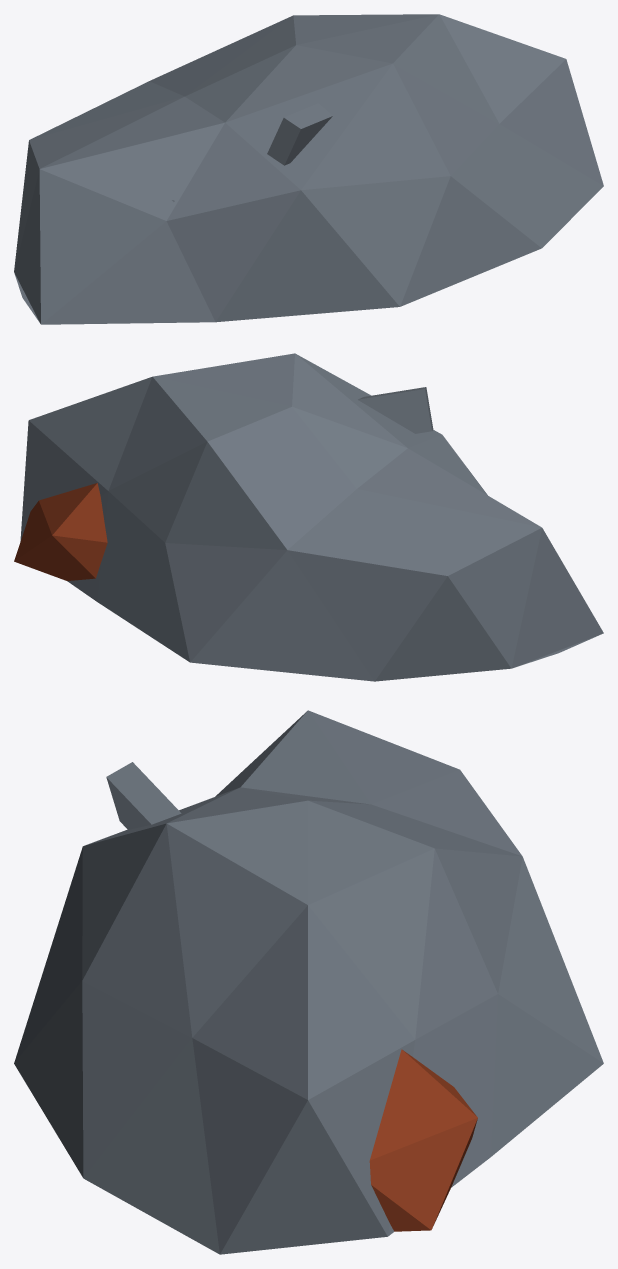
File: bg_scrap_mountain_far.fbx
3 views of the same model, one above another, from view 1: azimuth 30°, elevation 25°; view 2: azimuth 150°, elevation 25°; view 3: azimuth 270°, elevation 25° (orthographic). The views are drawn at different scales.
Visible parts, largest first — view 1: c_6E7781_SmoothPlastic; view 2: c_6E7781_SmoothPlastic, c_8A3B1E_SmoothPlastic; view 3: c_6E7781_SmoothPlastic, c_8A3B1E_SmoothPlastic.
Part boxes in pixels (<box>): c_6E7781_SmoothPlastic: <box>14,14,603,324</box>; c_6E7781_SmoothPlastic: <box>20,353,603,681</box>; c_8A3B1E_SmoothPlastic: <box>14,483,107,580</box>; c_6E7781_SmoothPlastic: <box>14,710,603,1254</box>; c_8A3B1E_SmoothPlastic: <box>369,1049,477,1231</box>.
Size of the model in its own units: 88.43 by 28.84 by 56.59.
